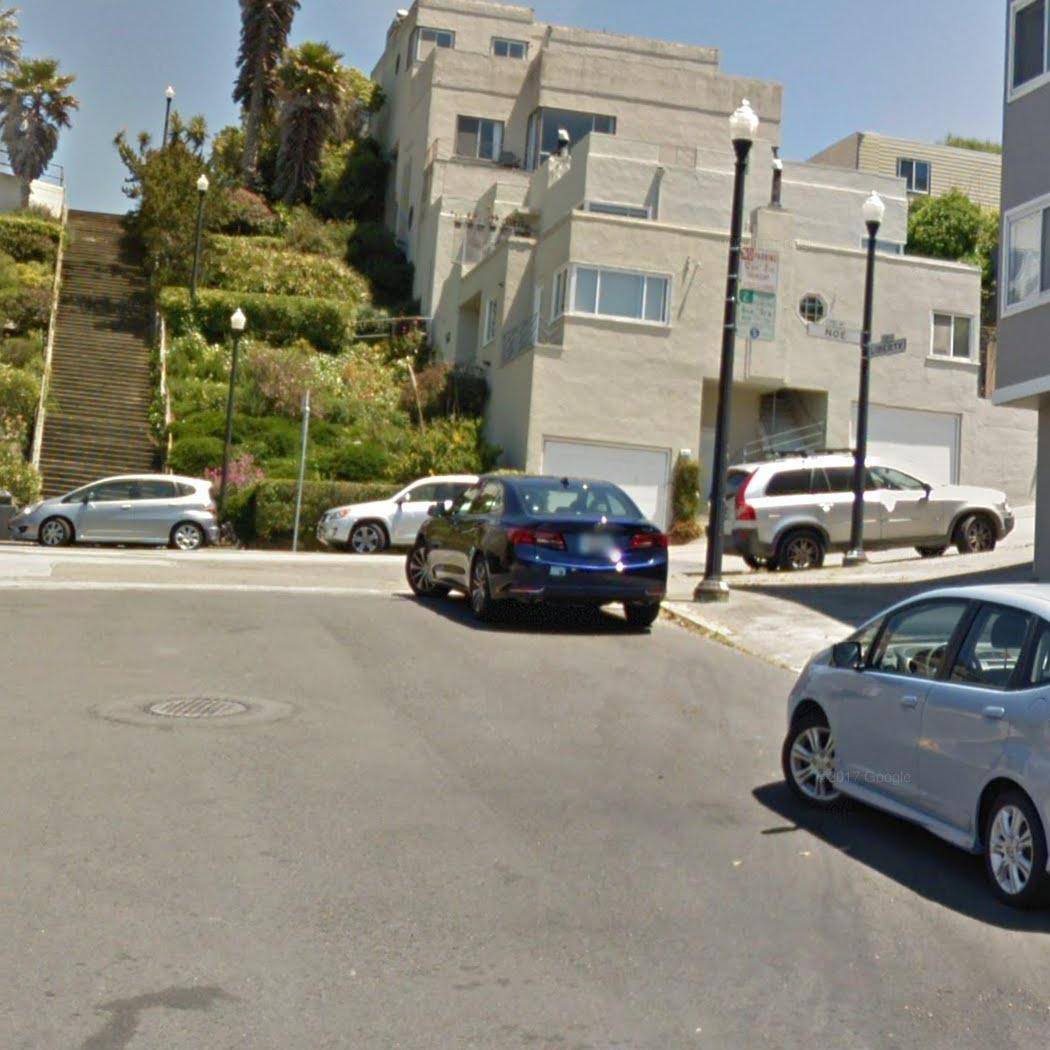2 Hour Parking: (735, 288, 780, 345)
No Parking: (739, 241, 780, 290)
